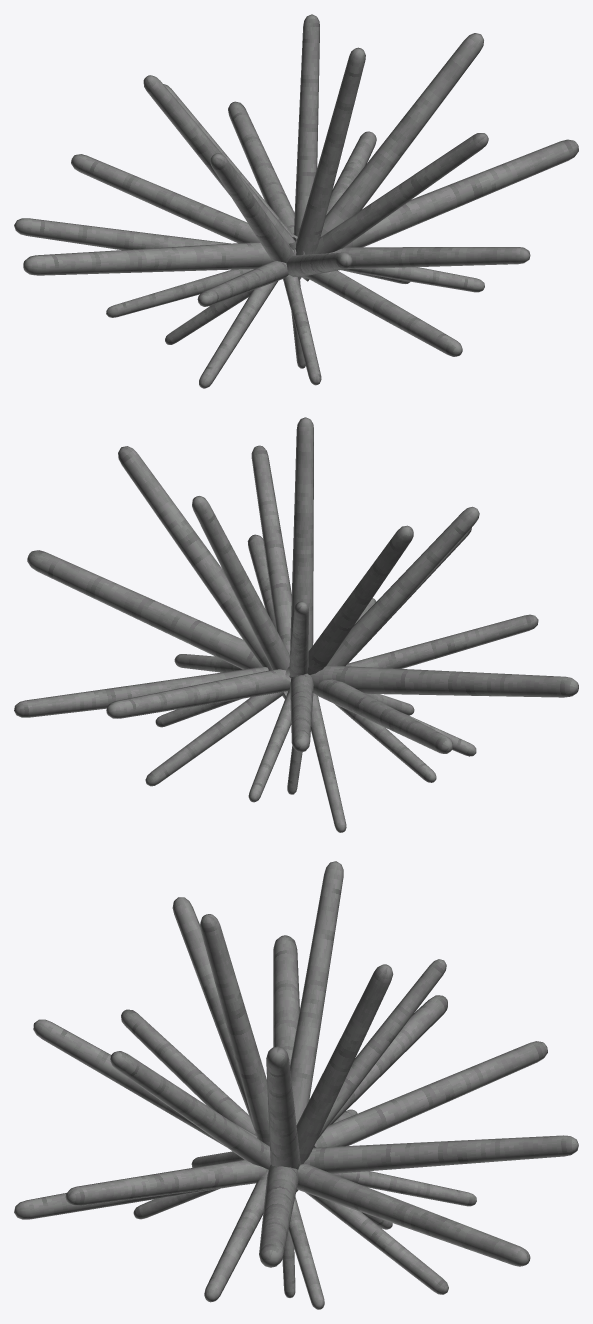
File: ItemsMode_05_Spikes_EvilOrnament_SM.glb
3 renders of one model, top to bottom at view 1: azimuth 30°, elevation 25°; view 2: azimuth 150°, elevation 25°; view 3: azimuth 270°, elevation 25°, orthographic. The views are drawn at different scales.
Visible parts, largest first — view 1: Spikes_EvilOrnament_SM; view 2: Spikes_EvilOrnament_SM; view 3: Spikes_EvilOrnament_SM.
Part boxes in pixels (x1,y1,x2,y2): Spikes_EvilOrnament_SM: (14,14,578,388); Spikes_EvilOrnament_SM: (14,417,578,832); Spikes_EvilOrnament_SM: (14,861,578,1309).
Bounding box in the file's own units: 1.59 × 0.9422 × 1.22.
Materials: 1 (1 with a texture image).
